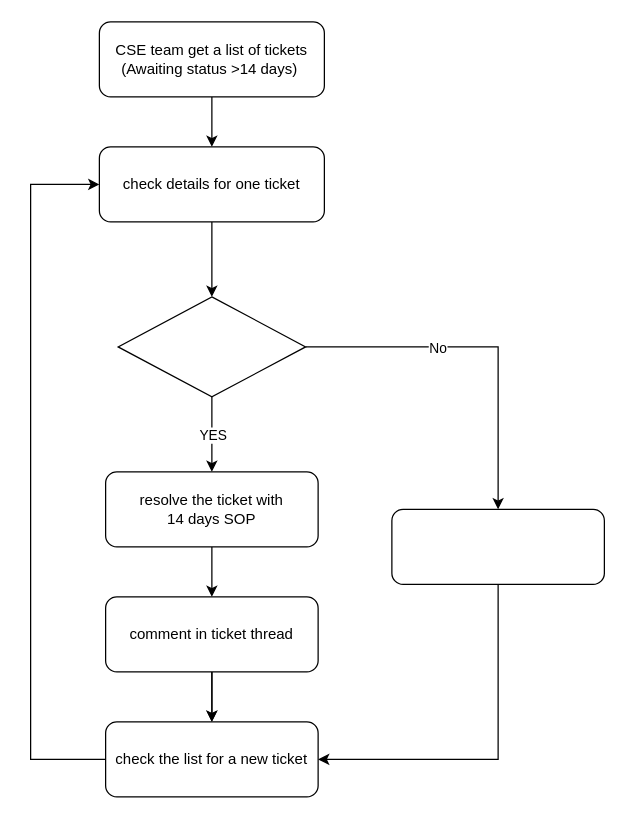
The diagram is 626 pixels wide and 819 high, and some of its shapes have lost their labels. Each missing label, with the box of its shape:
7 days reminder sent out?: (117, 296, 306, 397)
follow up with 7 days reminder workflow: (391, 508, 604, 584)
